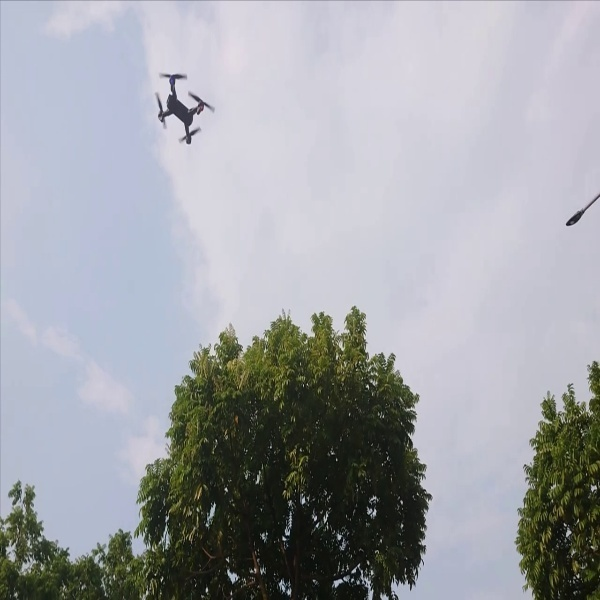drone: (146, 66, 218, 150)
